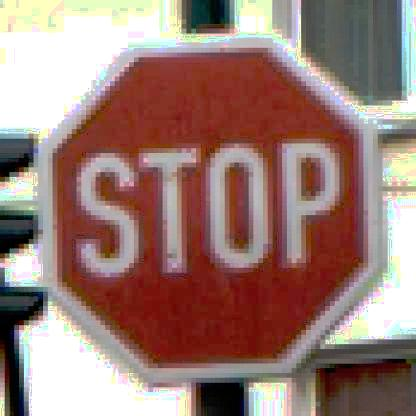Stop Sign: (40, 31, 388, 388)
